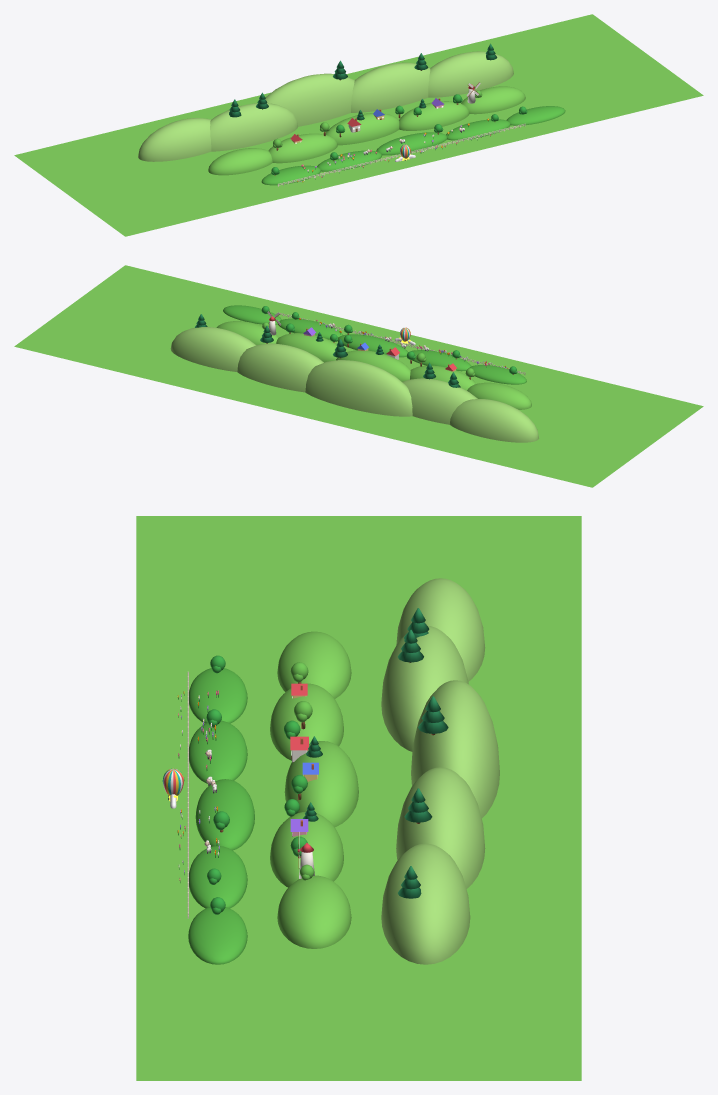
Rendered from world.glb.
The picture shows the model from 3 angles, top to bottom: view 1: azimuth 30°, elevation 25°; view 2: azimuth 150°, elevation 25°; view 3: azimuth 270°, elevation 25°; orthographic projection. The views are drawn at different scales.
Visible parts, largest first — view 1: landscape_mesh; view 2: landscape_mesh; view 3: landscape_mesh.
Part boxes in pixels (x1,y1,x2,y2): landscape_mesh: (14, 14, 703, 236); landscape_mesh: (14, 265, 703, 487); landscape_mesh: (136, 516, 581, 1080).
Bounding box in the file's own units: 180 × 17.58 × 60.
